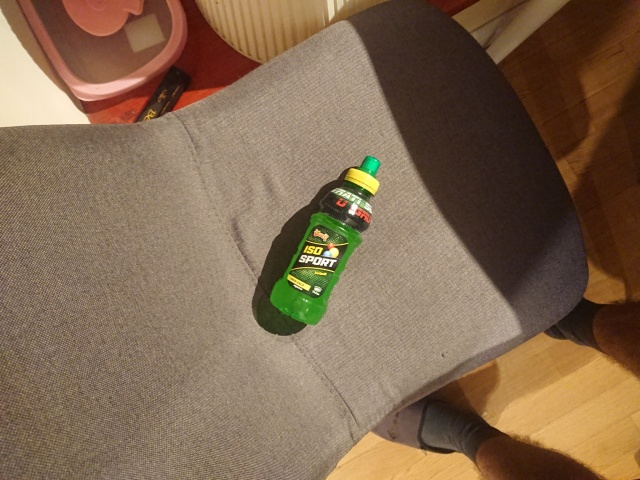Vindi Iso Sport Lemon-Grapefruit 500mL: (267, 154, 383, 327)
